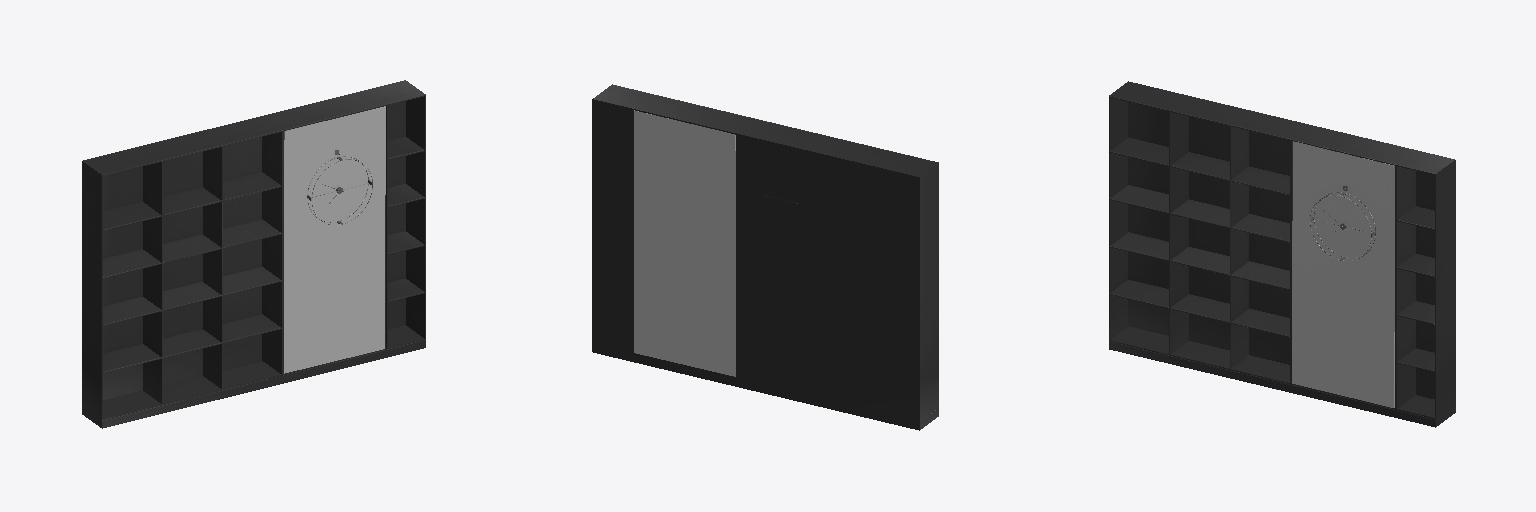
3 views of the same model, side by side, from view 1: azimuth 30°, elevation 25°; view 2: azimuth 150°, elevation 25°; view 3: azimuth 330°, elevation 25° (orthographic).
Parts seen in each view (by area): view 1: solid_001, solid_002; view 2: solid_001, solid_002; view 3: solid_001, solid_002.
Part boxes in pixels (x1,y1,x2,y2): solid_001: (82,80,425,428); solid_002: (284,106,385,373); solid_001: (592,84,938,430); solid_002: (634,110,735,376); solid_001: (1109,81,1455,427); solid_002: (1292,141,1394,407).
Size of the model in its own units: 1.61 by 1.2 by 0.2208.
1 materials, 1 textured.